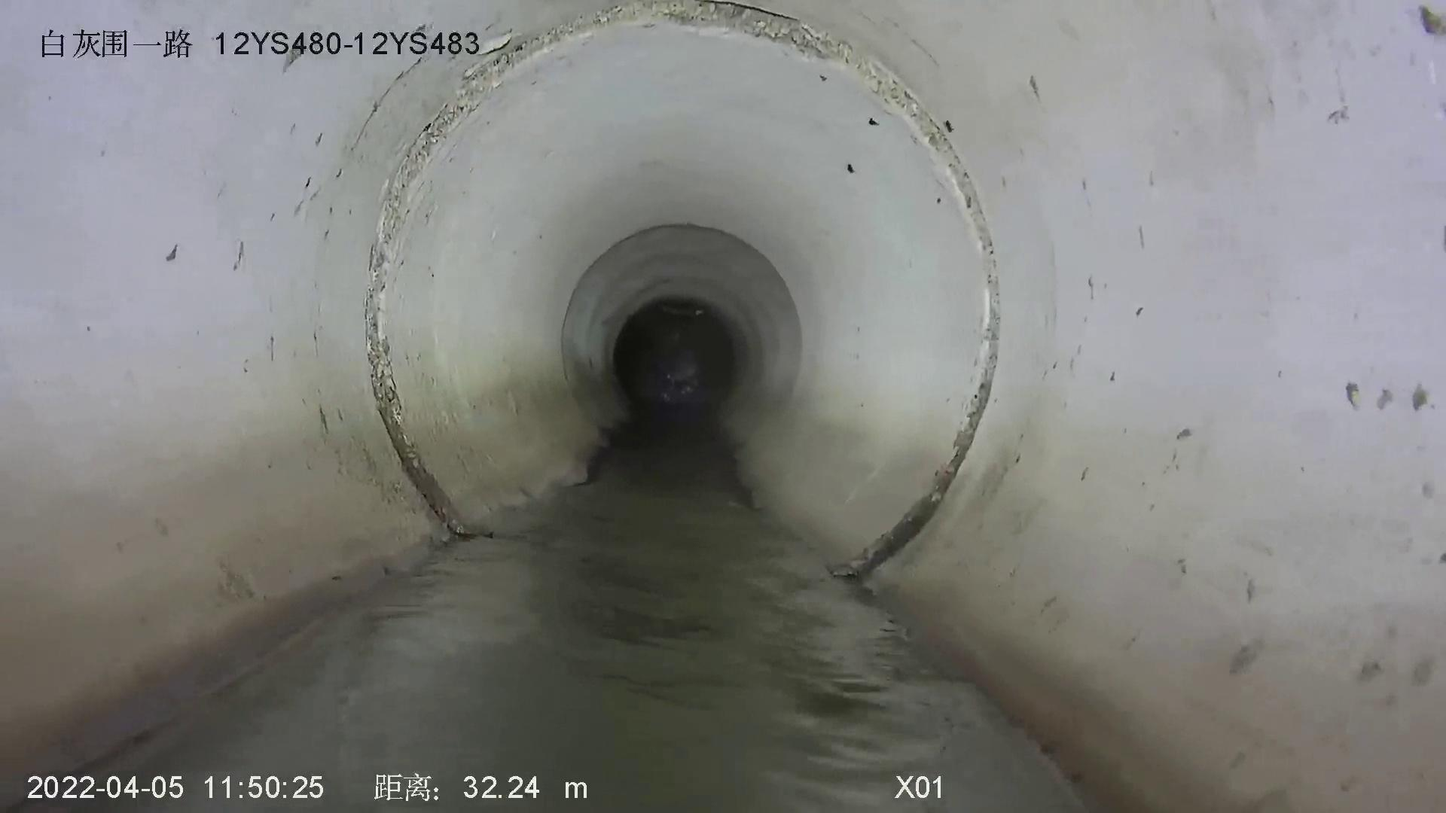CKTJ: (364, 0, 1000, 577)
